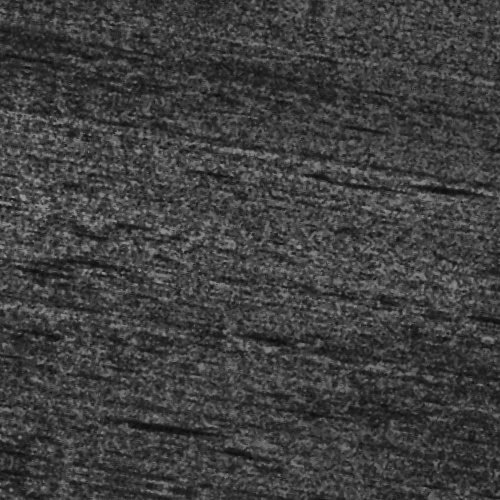object: (241, 432, 334, 441), (457, 153, 500, 162)
shadow: (167, 432, 287, 441), (436, 153, 494, 162)
